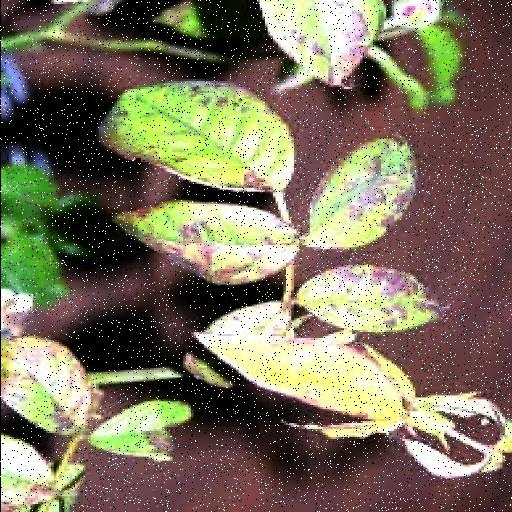downy_mildew: (98, 82, 292, 191), (193, 333, 411, 421), (114, 200, 298, 284), (301, 139, 416, 249), (259, 0, 382, 86), (296, 265, 446, 332), (1, 337, 92, 434), (88, 400, 190, 460), (151, 0, 263, 39), (1, 435, 55, 511), (415, 24, 461, 104), (204, 301, 290, 336)
